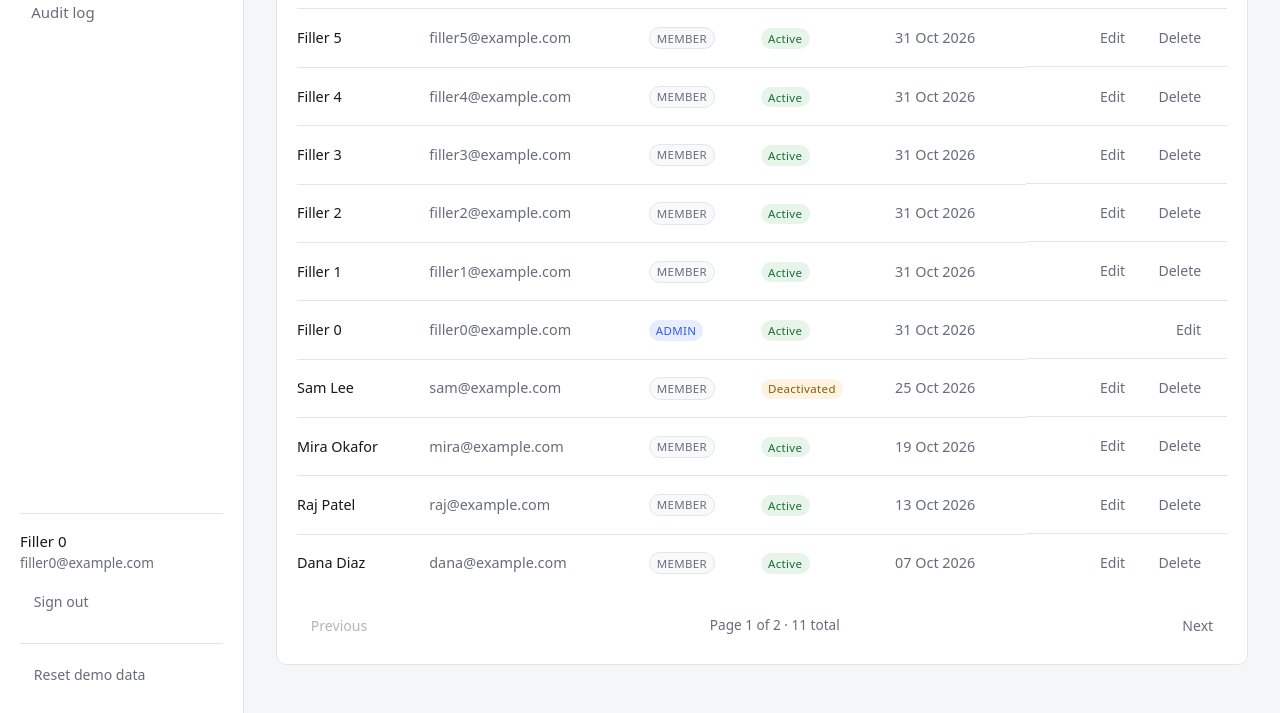
Scenario: paging through a list that shrinks › falls back to the last remaining page instead of showing an empty one
The width and height of the screenshot is (1280, 713).
(page scrolled)
Click the button "Next". click: [1198, 626]
box: x1=1168 y1=607 x2=1227 y2=644
(page scrolled)
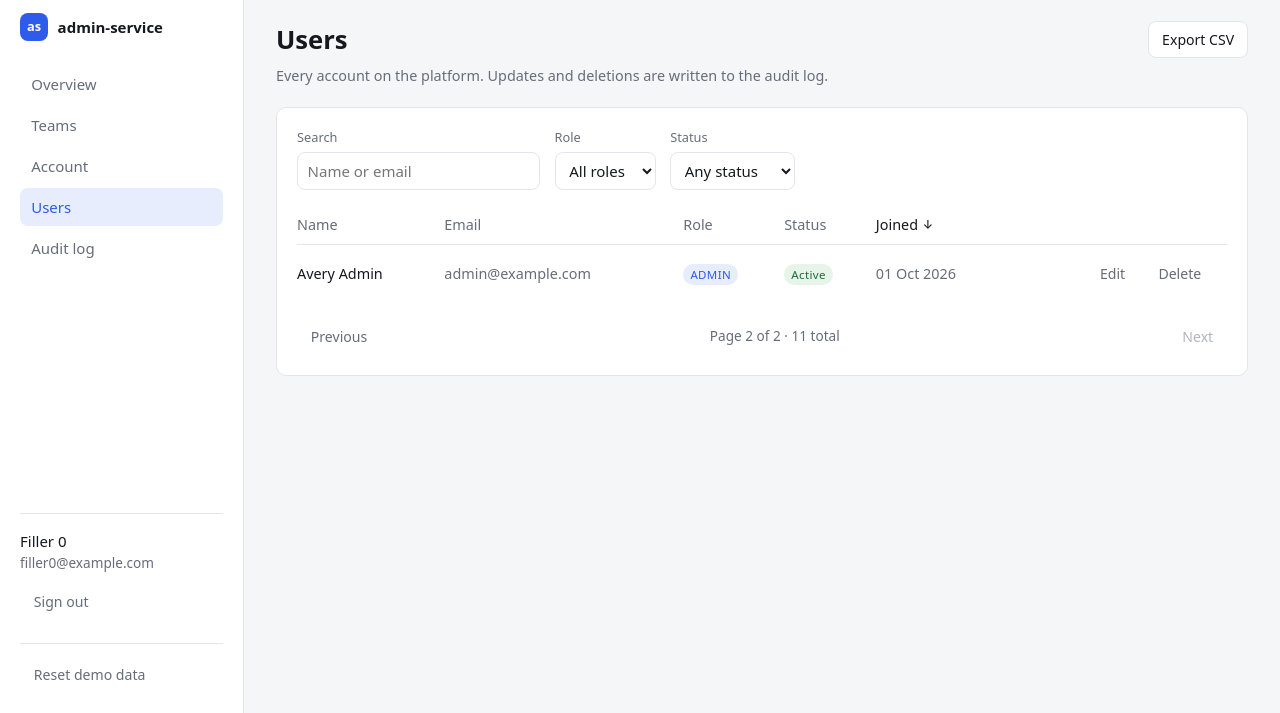
Expected: the text "admin@example.com" is shown, x1=444 y1=245 x2=683 y2=302
Click the button "Delete". click: [1180, 274]
box: x1=1145 y1=256 x2=1215 y2=292
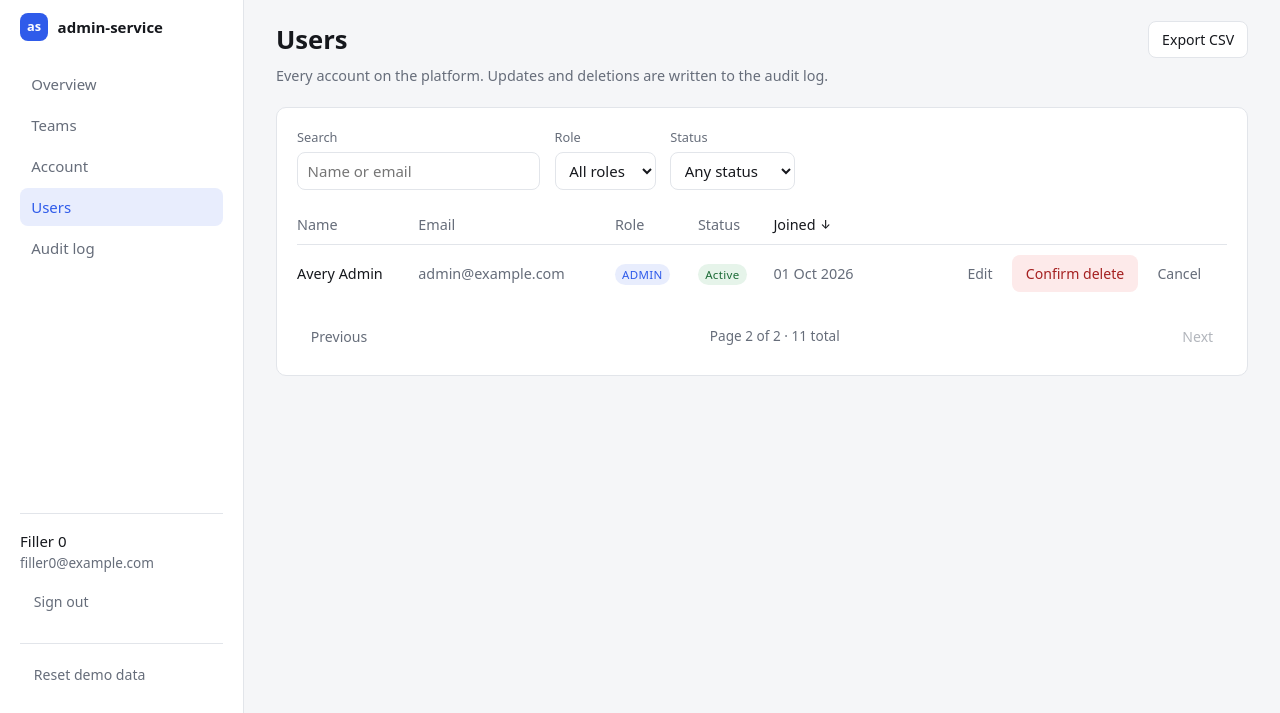
Click the button "Confirm delete". click: [1075, 274]
box: x1=1012 y1=256 x2=1138 y2=292
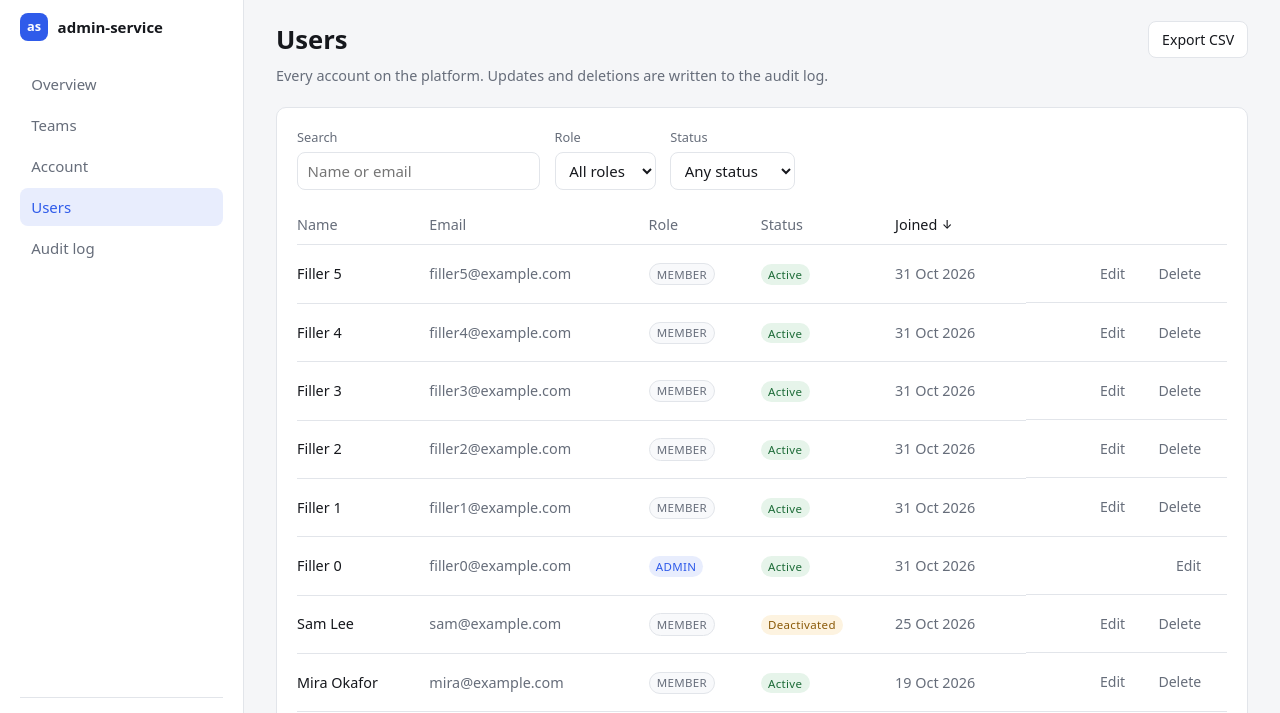
Expected: the number of rows is 11
